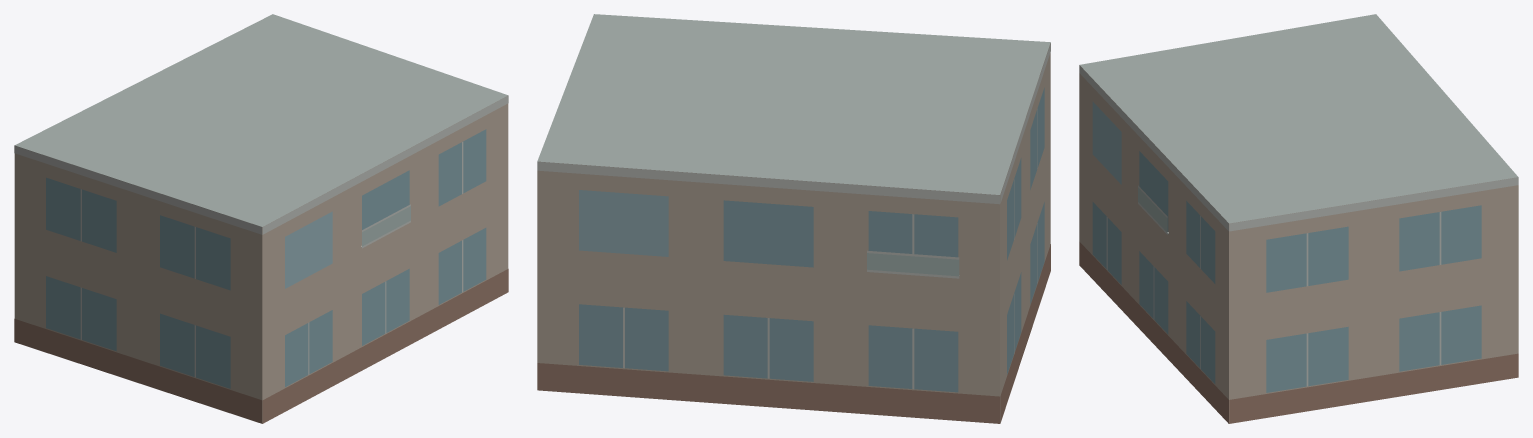
Rendered from survey-upis-32698430.glb.
The picture shows the model from 3 angles, left to right: view 1: azimuth 30°, elevation 25°; view 2: azimuth 150°, elevation 25°; view 3: azimuth 270°, elevation 25°; orthographic projection. The views are drawn at different scales.
Parts seen in each view (by area): view 1: survey-upis-32698430.tmp; view 2: survey-upis-32698430.tmp; view 3: survey-upis-32698430.tmp.
Boxes of the visible parts, x1,y1,x2,y2 form: survey-upis-32698430.tmp: [14, 14, 508, 423]; survey-upis-32698430.tmp: [537, 14, 1050, 423]; survey-upis-32698430.tmp: [1079, 14, 1518, 423].
Size of the model in its own units: 13.69 by 6.1 by 12.13.
